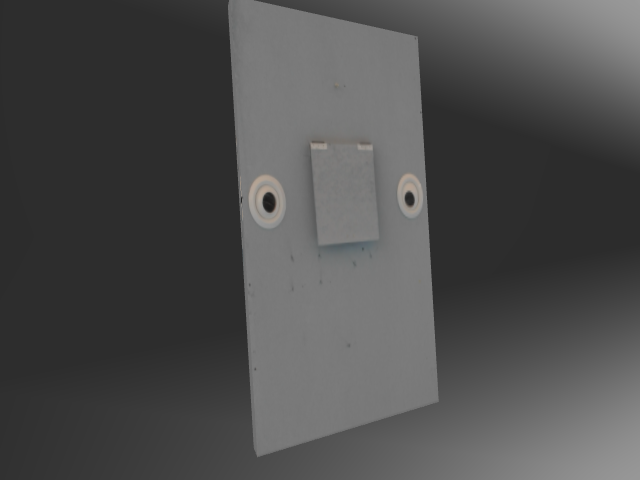facade: (242, 137, 426, 250)
